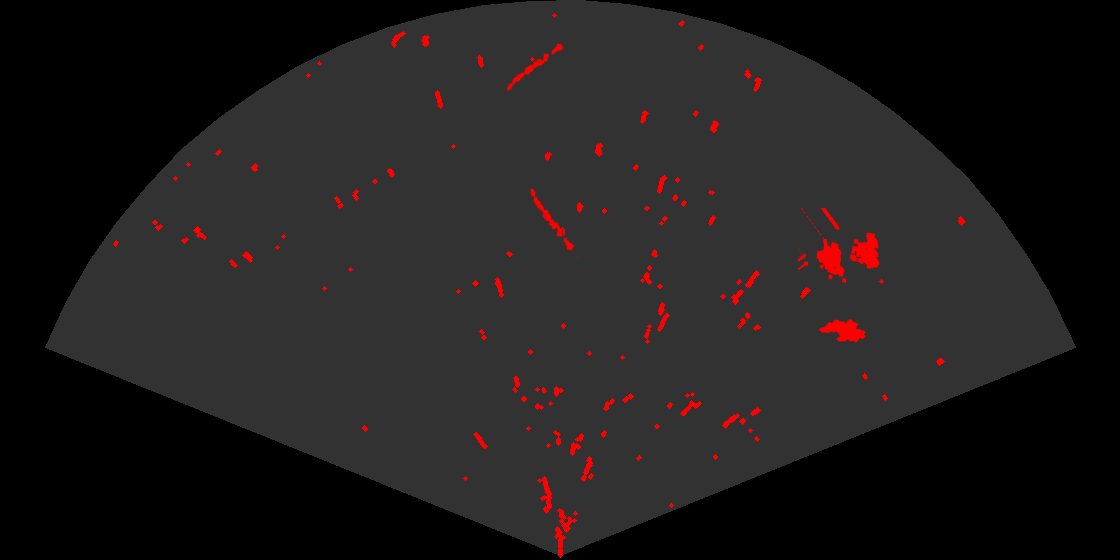AUV: (817, 318, 868, 344)
cage: (798, 208, 881, 285)
chain: (528, 187, 580, 259), (500, 39, 567, 94)
